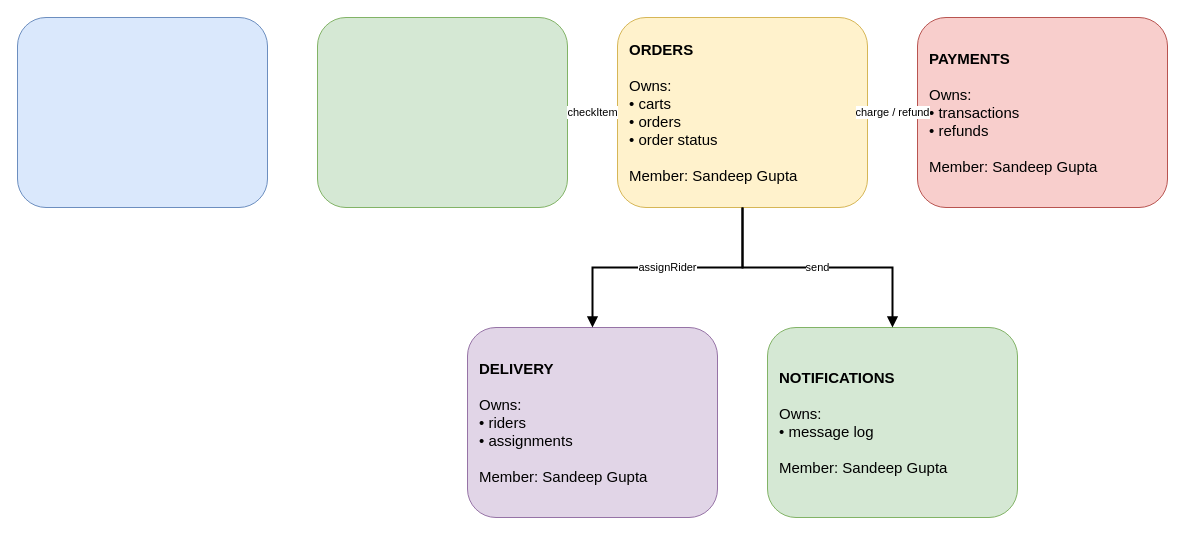
Image size: 1185x535. Some labels were removed from this diagram. The centre of each missing label's shape, as x and y in pixels:
ACCOUNTS Owns: • users • addresses • login Member: Sandeep Gupta: point 142,112
CATALOGUE Owns: • restaurants • menus • prices Member: Sandeep Gupta: point 442,112
